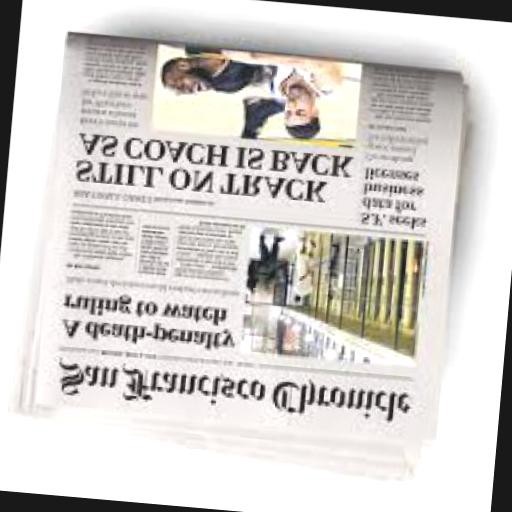paper: (1, 30, 470, 482)
